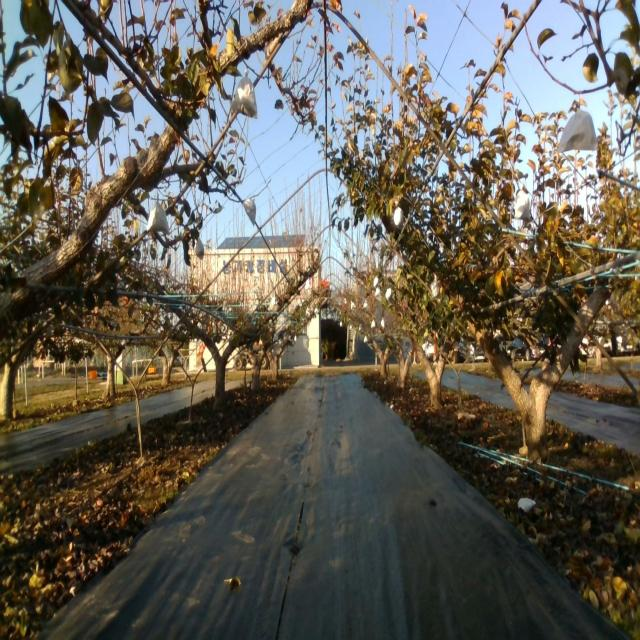pearbags: (558, 109, 598, 150), (230, 68, 260, 114), (146, 203, 170, 235), (515, 189, 531, 221), (243, 198, 256, 225), (391, 206, 404, 231)
